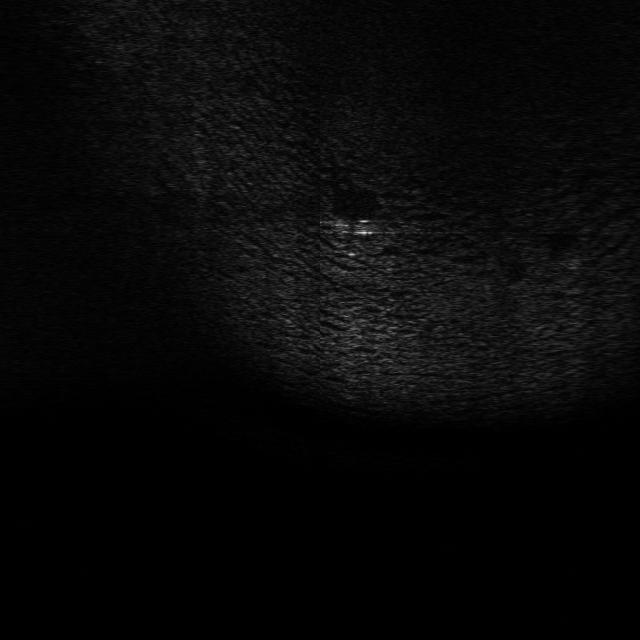plane: (326, 217, 376, 237)
